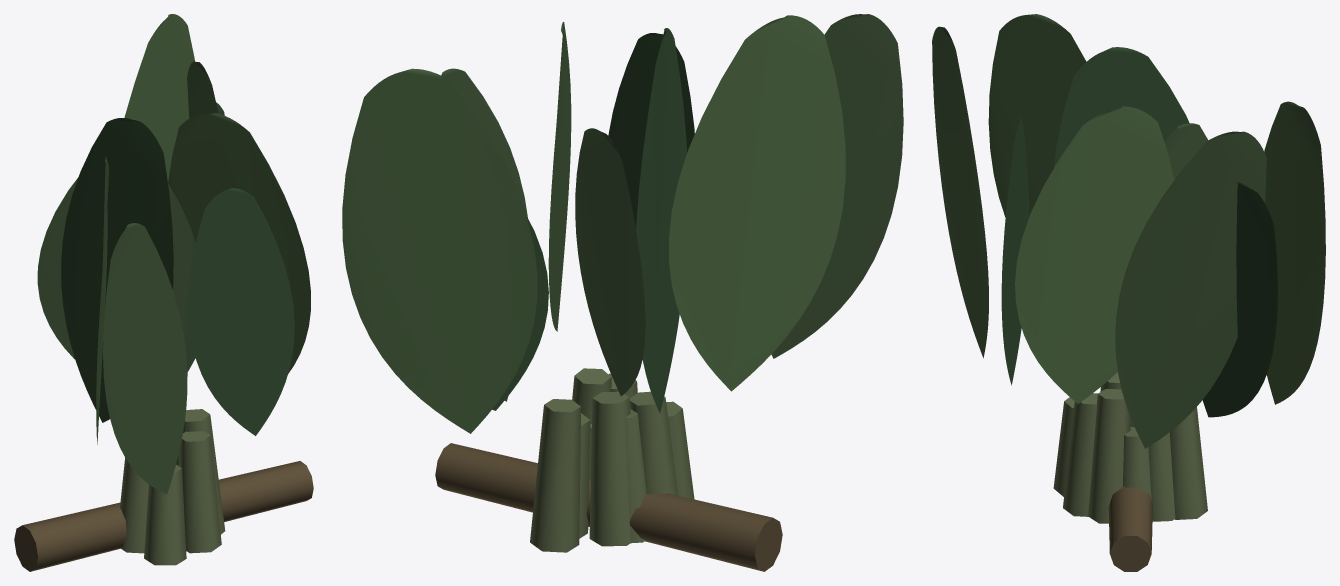
File: plant-anubias-petite-clump.glb
3 renders of one model, left to right at view 1: azimuth 30°, elevation 25°; view 2: azimuth 150°, elevation 25°; view 3: azimuth 270°, elevation 25°, orthographic. The views are drawn at different scales.
Visible parts, largest first — view 1: plant-anubias-petite-clump; view 2: plant-anubias-petite-clump; view 3: plant-anubias-petite-clump.
Part boxes in pixels (<box>): plant-anubias-petite-clump: <box>14,14,313,571</box>; plant-anubias-petite-clump: <box>342,14,903,571</box>; plant-anubias-petite-clump: <box>932,14,1325,571</box>.
Size of the model in its own units: 0.259 by 0.3613 by 0.291.
